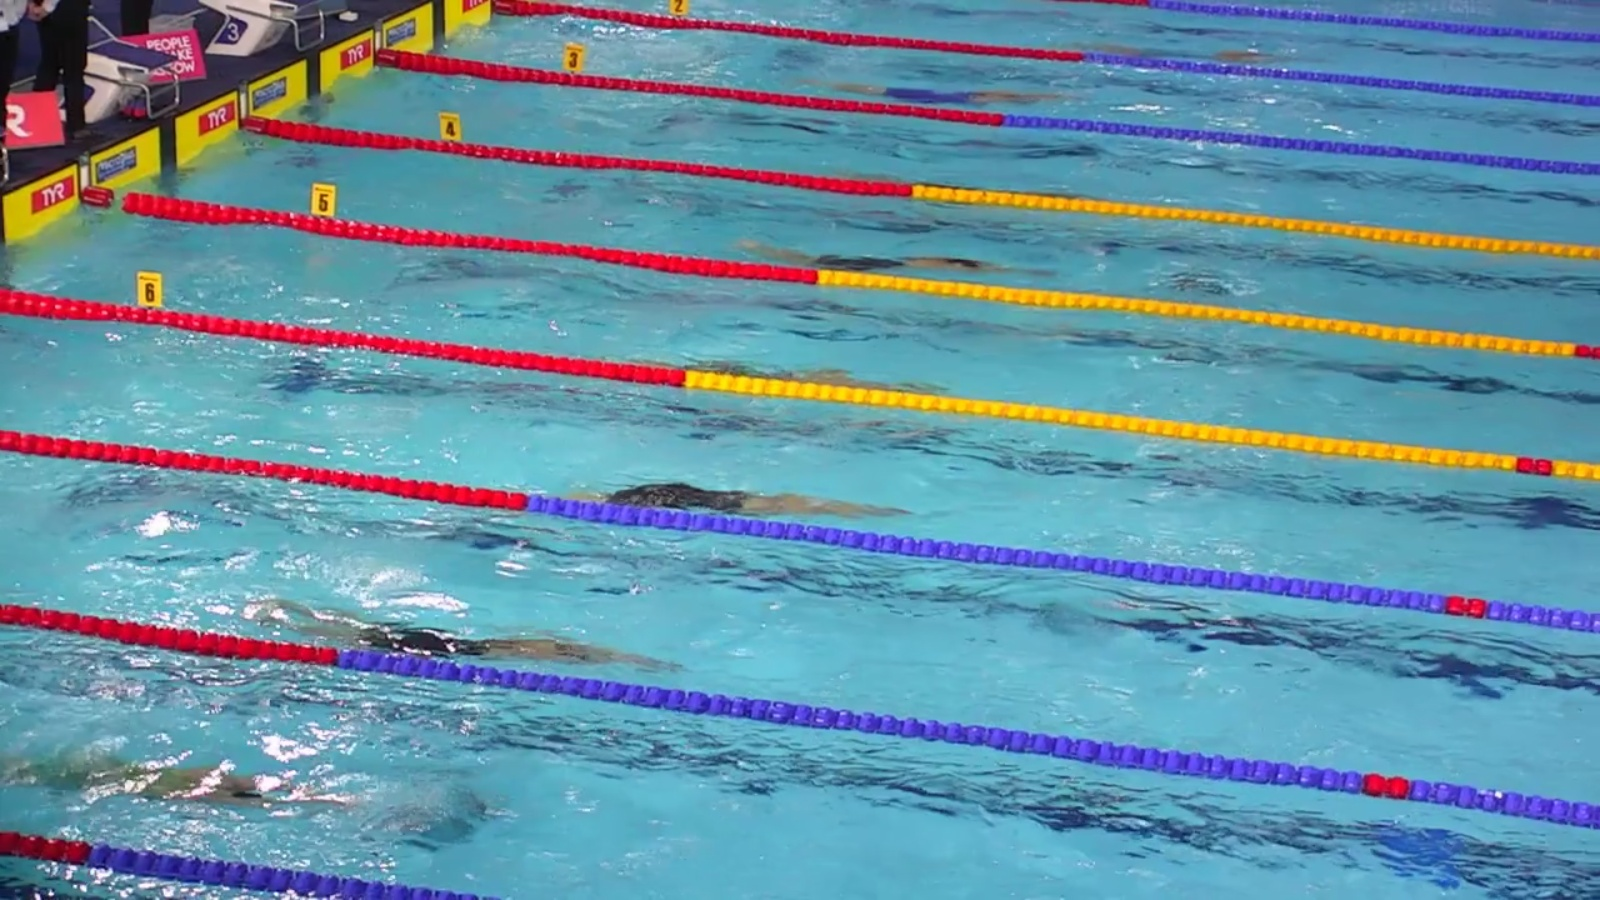swimmerw: (263, 596, 677, 679), (1, 731, 343, 815), (662, 351, 933, 412), (558, 484, 901, 519), (830, 165, 1078, 213), (813, 73, 1084, 111), (742, 238, 1010, 277), (1089, 31, 1278, 71)
